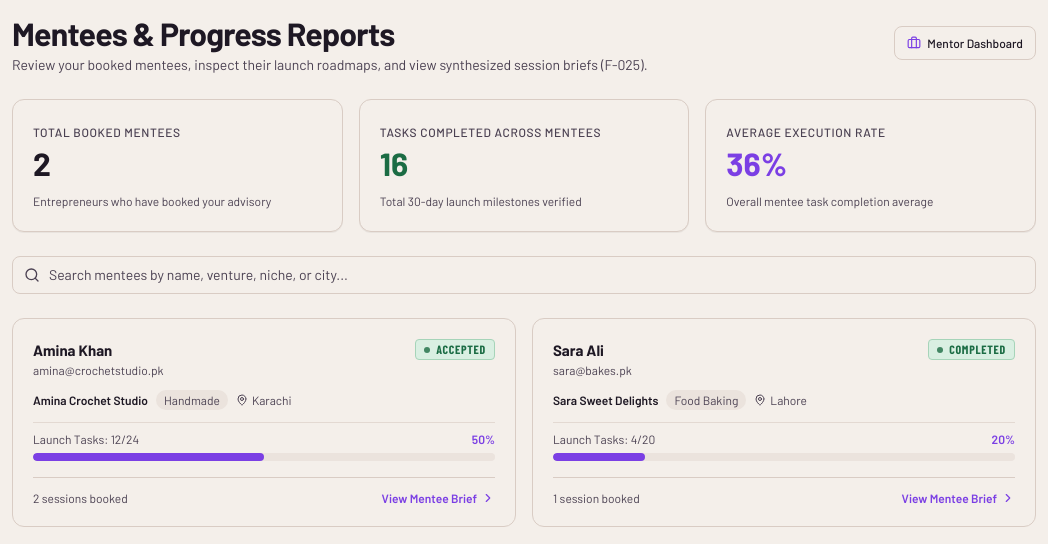
MentorMenteesPage (Task 41 / F-025) › filters mentees by search query input
The image size is (1048, 544).
Expected: the heading "Amina Khan" is shown, [33,341,112,359]
In the field with placeholder "Search mentees by name, venture, niche, or city...": (524, 275) [12,256,1036,294], type "Lahore"
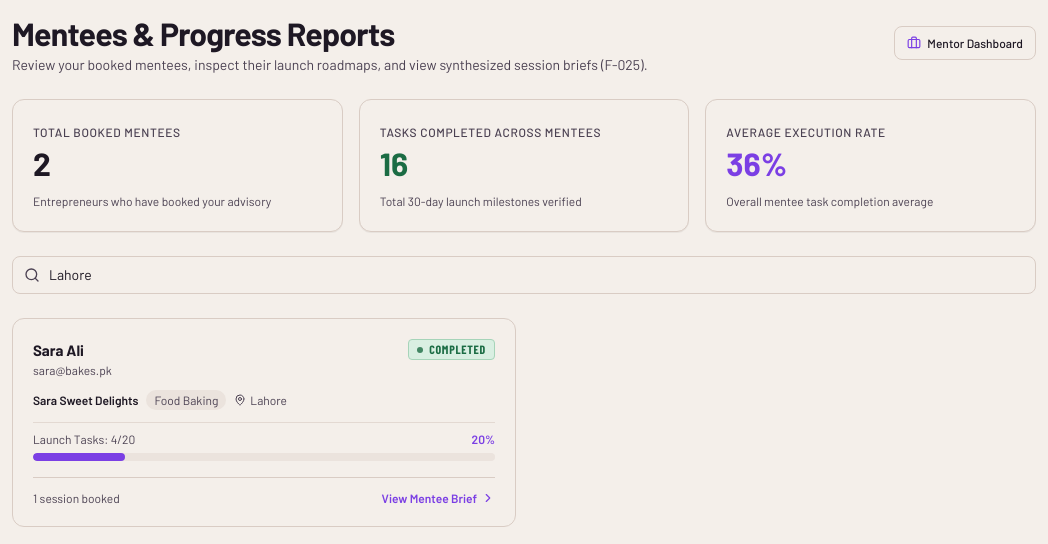
Expected: the heading "Sara Ali" is shown, [33,341,84,359]
Expected: the heading "Amina Khan" is gone
